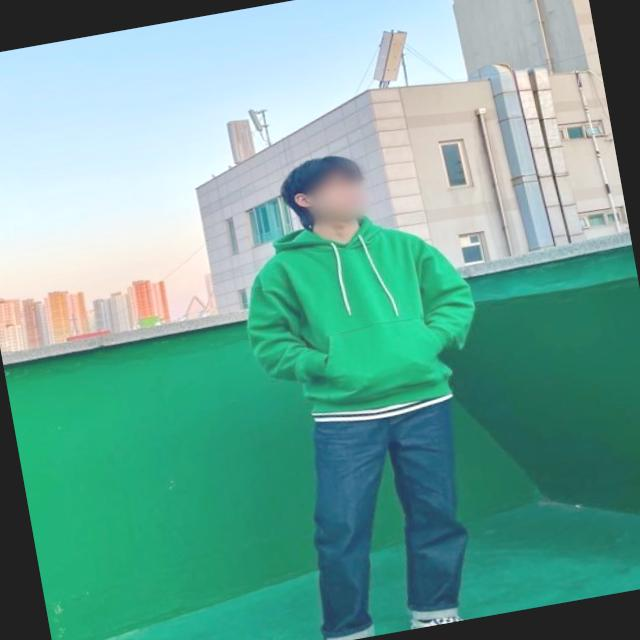denimpants: (282, 390, 487, 640)
hoodies: (228, 196, 486, 420)
